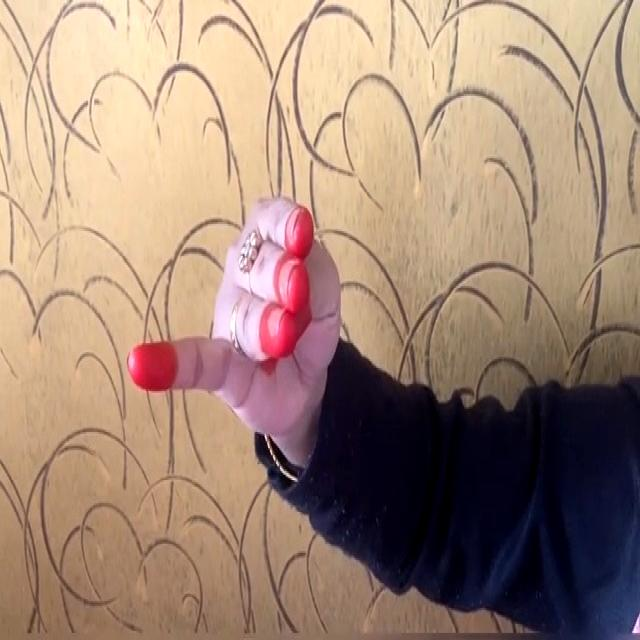Chatura: (124, 114, 360, 468)
